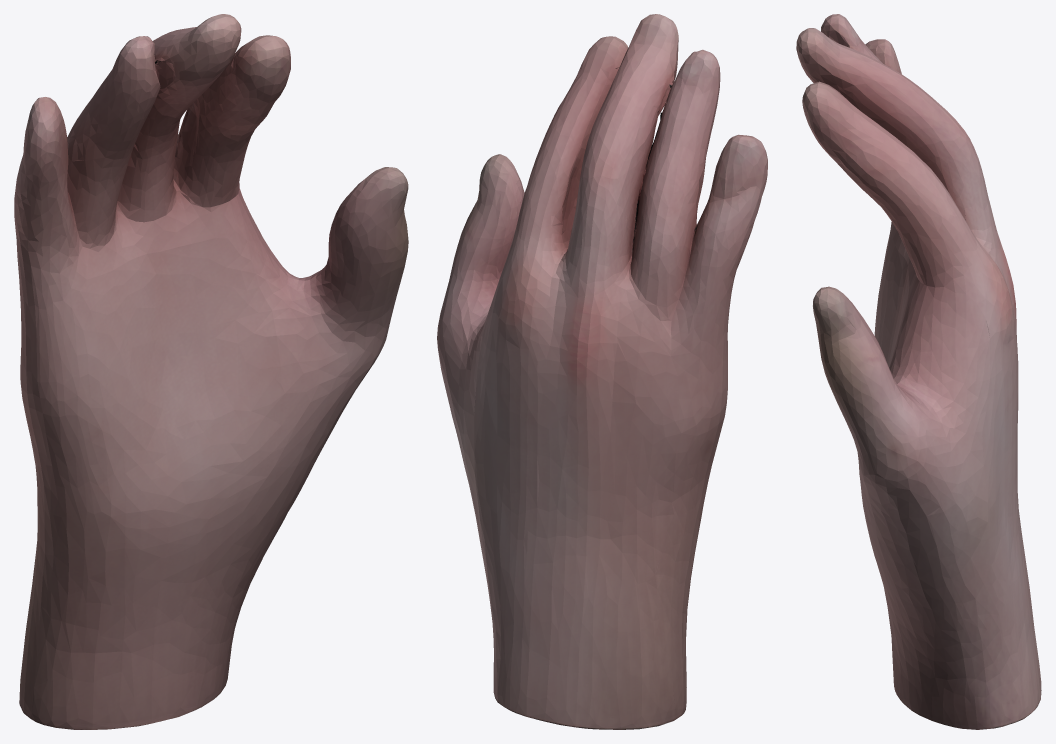
File: hand_open.glb
The picture shows the model from 3 angles, left to right: view 1: azimuth 30°, elevation 25°; view 2: azimuth 150°, elevation 25°; view 3: azimuth 270°, elevation 25°; orthographic projection. The views are drawn at different scales.
Visible parts, largest first — view 1: world; view 2: world; view 3: world.
Part boxes in pixels (x1=…): world: x1=14, y1=14, x2=408, y2=729; world: x1=437, y1=14, x2=767, y2=729; world: x1=796, y1=14, x2=1041, y2=729.
Size of the model in its own units: 0.5228 by 0.9999 by 0.3372.
1 material, 1 textured.
